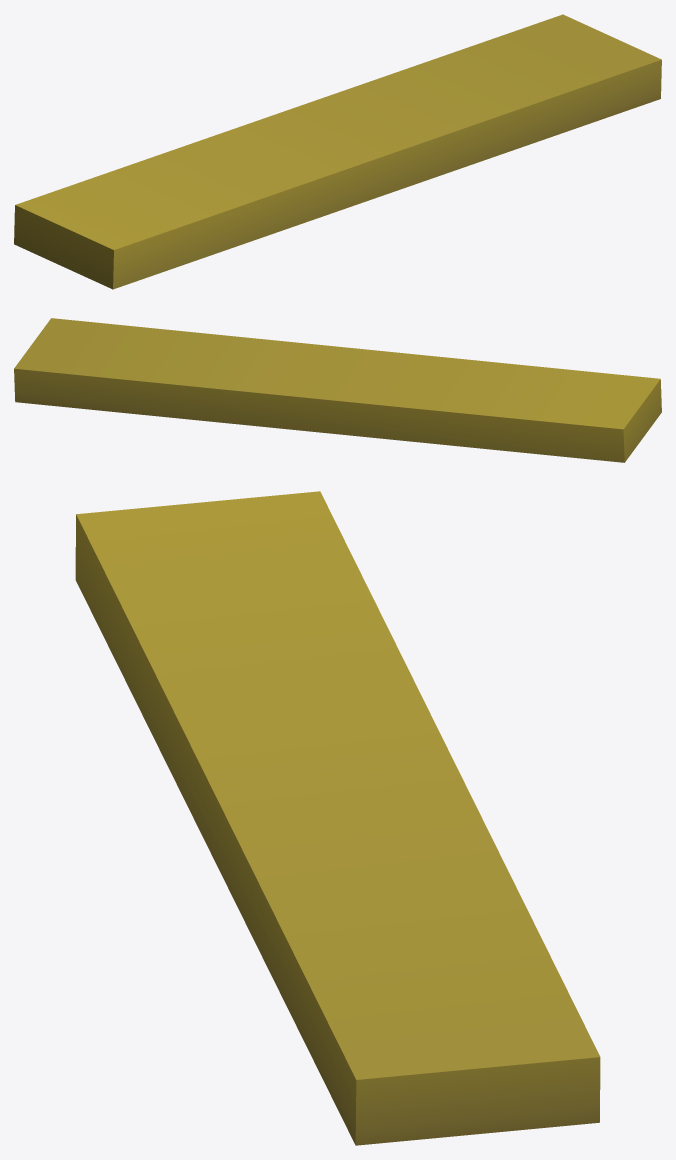
3 views of the same model, one above another, from view 1: azimuth 30°, elevation 25°; view 2: azimuth 150°, elevation 25°; view 3: azimuth 270°, elevation 25° (orthographic). The views are drawn at different scales.
Visible parts, largest first — view 1: pCube4; view 2: pCube4; view 3: pCube4.
Part boxes in pixels (x1,y1,x2,y2): pCube4: (14,14,661,289); pCube4: (14,318,661,462); pCube4: (75,491,600,1145).
Bounding box in the file's own units: 0.00563 × 0.000506 × 0.00227.
Materials: 1 (1 with a texture image).
